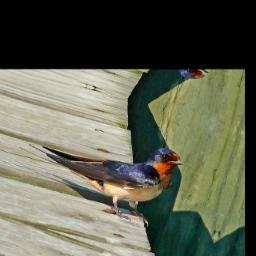Swallow: (32, 114, 188, 233)
